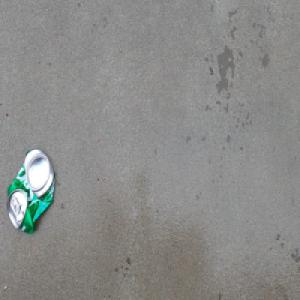SodaCan: (6, 146, 56, 236)
